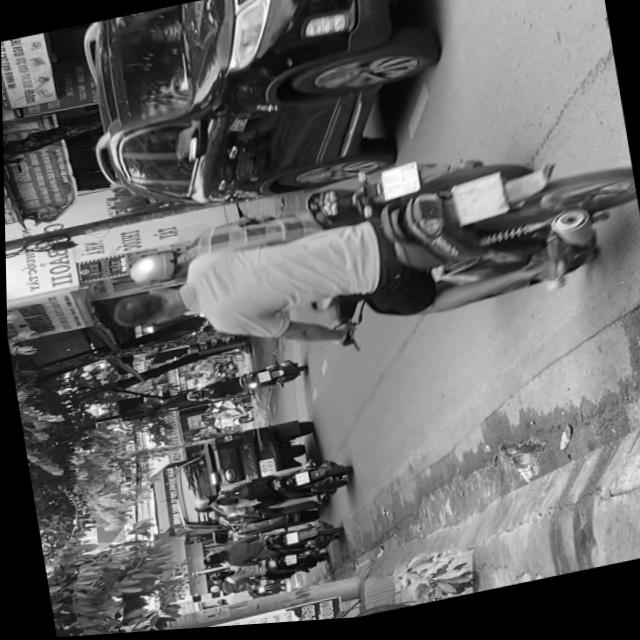helmet: (122, 247, 189, 291), (186, 497, 213, 515)
licenseplate: (91, 125, 640, 395), (182, 458, 351, 530)
motorcyclist: (106, 281, 190, 338)
nohelmet: (448, 179, 504, 233), (377, 168, 418, 205), (291, 475, 307, 490)
